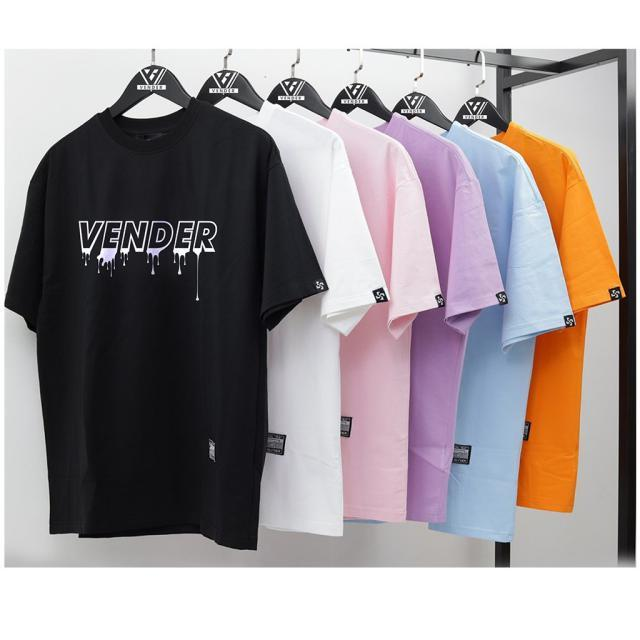Shirt: (3, 95, 326, 550)
